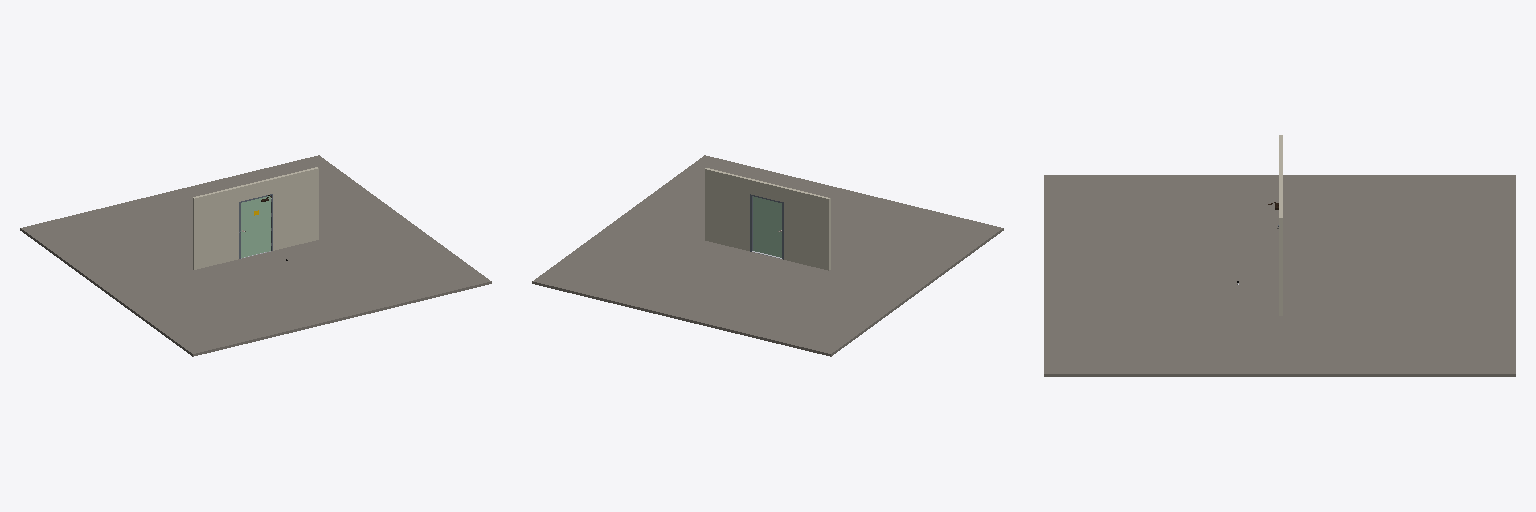
robot.urdf — db0206_swing_single_full:
<?xml version="1.0" ?>
<robot xmlns:doorbench="https://github.com/adamraudonis/DoorBench/schema/urdf-ext" name="db0206_swing_single_full">
  <link name="world_env">
    <visual name="floor_vis">
      <origin xyz="0 0 -0.05" rpy="0 0 0"/>
      <geometry>
        <box size="12 12 0.1"/>
      </geometry>
      <material name="mat_floor"/>
    </visual>
    <collision name="floor_col">
      <origin xyz="0 0 -0.05" rpy="0 0 0"/>
      <geometry>
        <box size="12 12 0.1"/>
      </geometry>
    </collision>
    <visual name="wall_left_vis">
      <origin xyz="-1.5965 0.0285 1.3735" rpy="0 0 0"/>
      <geometry>
        <box size="1.807 0.115 2.747"/>
      </geometry>
      <material name="mat_wall"/>
    </visual>
    <collision name="wall_left_col">
      <origin xyz="-1.5965 0.0285 1.3735" rpy="0 0 0"/>
      <geometry>
        <box size="1.807 0.115 2.747"/>
      </geometry>
    </collision>
    <visual name="wall_right_vis">
      <origin xyz="1.5815 0.0285 1.3735" rpy="0 0 0"/>
      <geometry>
        <box size="1.837 0.115 2.747"/>
      </geometry>
      <material name="mat_wall"/>
    </visual>
    <collision name="wall_right_col">
      <origin xyz="1.5815 0.0285 1.3735" rpy="0 0 0"/>
      <geometry>
        <box size="1.837 0.115 2.747"/>
      </geometry>
    </collision>
    <visual name="wall_header_vis">
      <origin xyz="-0.015 0.0285 2.487" rpy="0 0 0"/>
      <geometry>
        <box size="1.356 0.115 0.52"/>
      </geometry>
      <material name="mat_wall"/>
    </visual>
    <collision name="wall_header_col">
      <origin xyz="-0.015 0.0285 2.487" rpy="0 0 0"/>
      <geometry>
        <box size="1.356 0.115 0.52"/>
      </geometry>
    </collision>
    <visual name="hinge_0_jamb_vis">
      <origin xyz="0.61 -0.029 0.267" rpy="3.141593 0 3.141593"/>
      <geometry>
        <mesh filename="../../hardware/hinge_jamb_1278ce3e25.obj"/>
      </geometry>
      <material name="mat_hinge"/>
    </visual>
    <visual name="hinge_1_jamb_vis">
      <origin xyz="0.61 -0.029 0.832333" rpy="3.141593 0 3.141593"/>
      <geometry>
        <mesh filename="../../hardware/hinge_jamb_1278ce3e25.obj"/>
      </geometry>
      <material name="mat_hinge"/>
    </visual>
    <visual name="hinge_2_jamb_vis">
      <origin xyz="0.61 -0.029 1.397667" rpy="3.141593 0 3.141593"/>
      <geometry>
        <mesh filename="../../hardware/hinge_jamb_1278ce3e25.obj"/>
      </geometry>
      <material name="mat_hinge"/>
    </visual>
    <visual name="hinge_3_jamb_vis">
      <origin xyz="0.61 -0.029 1.963" rpy="3.141593 0 3.141593"/>
      <geometry>
        <mesh filename="../../hardware/hinge_jamb_1278ce3e25.obj"/>
      </geometry>
      <material name="mat_hinge"/>
    </visual>
    <visual name="jamb_hinge_vis">
      <origin xyz="0.638 0.0285 1.0735" rpy="0 0 0"/>
      <geometry>
        <box size="0.05 0.115 2.147"/>
      </geometry>
      <material name="mat_frame"/>
    </visual>
    <collision name="jamb_hinge_col">
      <origin xyz="0.638 0.0285 1.0735" rpy="0 0 0"/>
      <geometry>
        <box size="0.05 0.115 2.147"/>
      </geometry>
    </collision>
    <visual name="strike_1040_wall_n_vis">
      <origin xyz="-0.653 0.04775 1.04" rpy="0 0 0"/>
      <geometry>
        <box size="0.08 0.0765 0.0366"/>
      </geometry>
      <material name="mat_frame"/>
    </visual>
    <collision name="strike_1040_wall_n_col">
      <origin xyz="-0.653 0.04775 1.04" rpy="0 0 0"/>
      <geometry>
        <box size="0.08 0.0765 0.0366"/>
      </geometry>
    </collision>
    <visual name="strike_1040_wall_p_vis">
      <origin xyz="-0.653 -0.0175 1.04" rpy="0 0 0"/>
      <geometry>
        <box size="0.08 0.016 0.0366"/>
      </geometry>
      <material name="mat_frame"/>
    </visual>
    <collision name="strike_1040_wall_p_col">
      <origin xyz="-0.653 -0.0175 1.04" rpy="0 0 0"/>
      <geometry>
        <box size="0.08 0.016 0.0366"/>
      </geometry>
    </collision>
    <visual name="strike_1040_ramp_vis">
      <origin xyz="-0.656282 -0.018312 1.04" rpy="0 0 -0.588003"/>
      <geometry>
        <box size="0.08 0.036056 0.0366"/>
      </geometry>
      <material name="mat_frame"/>
    </visual>
    <collision name="strike_1040_ramp_col">
      <origin xyz="-0.656282 -0.018312 1.04" rpy="0 0 -0.588003"/>
      <geometry>
        <box size="0.08 0.036056 0.0366"/>
      </geometry>
    </collision>
    <visual name="strike_1040_back_vis">
      <origin xyz="-0.6645 0 1.04" rpy="0 0 0"/>
      <geometry>
        <box size="0.057 0.019 0.0366"/>
      </geometry>
      <material name="mat_frame"/>
    </visual>
    <collision name="strike_1040_back_col">
      <origin xyz="-0.6645 0 1.04" rpy="0 0 0"/>
      <geometry>
        <box size="0.057 0.019 0.0366"/>
      </geometry>
    </collision>
    <visual name="jamb_strike_0_vis">
      <origin xyz="-0.653 0.0285 0.51085" rpy="0 0 0"/>
      <geometry>
        <box size="0.08 0.115 1.0217"/>
      </geometry>
      <material name="mat_frame"/>
    </visual>
    <collision name="jamb_strike_0_col">
      <origin xyz="-0.653 0.0285 0.51085" rpy="0 0 0"/>
      <geometry>
        <box size="0.08 0.115 1.0217"/>
      </geometry>
    </collision>
    <visual name="jamb_strike_1_vis">
      <origin xyz="-0.653 0.0285 1.60265" rpy="0 0 0"/>
      <geometry>
        <box size="0.08 0.115 1.0887"/>
      </geometry>
      <material name="mat_frame"/>
    </visual>
    <collision name="jamb_strike_1_col">
      <origin xyz="-0.653 0.0285 1.60265" rpy="0 0 0"/>
      <geometry>
        <box size="0.08 0.115 1.0887"/>
      </geometry>
    </collision>
    <visual name="jamb_head_vis">
      <origin xyz="-0.015 0.0285 2.172" rpy="0 0 0"/>
      <geometry>
        <box size="1.356 0.115 0.05"/>
      </geometry>
      <material name="mat_frame"/>
    </visual>
    <collision name="jamb_head_col">
      <origin xyz="-0.015 0.0285 2.172" rpy="0 0 0"/>
      <geometry>
        <box size="1.356 0.115 0.05"/>
      </geometry>
    </collision>
    <visual name="head_stud_vis">
      <origin xyz="-0.015 0.0285 2.212" rpy="0 0 0"/>
      <geometry>
        <box size="1.356 0.115 0.03"/>
      </geometry>
      <material name="mat_wall"/>
    </visual>
    <collision name="head_stud_col">
      <origin xyz="-0.015 0.0285 2.212" rpy="0 0 0"/>
      <geometry>
        <box size="1.356 0.115 0.03"/>
      </geometry>
    </collision>
    <visual name="stop_hinge_vis">
      <origin xyz="0.6075 0.0385 1.0735" rpy="0 0 0"/>
      <geometry>
        <box size="0.011 0.032 2.147"/>
      </geometry>
      <material name="mat_frame"/>
    </visual>
    <collision name="stop_hinge_col">
      <origin xyz="0.6075 0.0385 1.0735" rpy="0 0 0"/>
      <geometry>
        <box size="0.011 0.032 2.147"/>
      </geometry>
    </collision>
    <visual name="stop_strike_vis">
      <origin xyz="-0.6075 0.0385 1.0735" rpy="0 0 0"/>
      <geometry>
        <box size="0.011 0.032 2.147"/>
      </geometry>
      <material name="mat_frame"/>
    </visual>
    <collision name="stop_strike_col">
      <origin xyz="-0.6075 0.0385 1.0735" rpy="0 0 0"/>
      <geometry>
        <box size="0.011 0.032 2.147"/>
      </geometry>
    </collision>
    <visual name="stop_head_vis">
      <origin xyz="0 0.0385 2.1415" rpy="0 0 0"/>
      <geometry>
        <box size="1.226 0.032 0.011"/>
      </geometry>
      <material name="mat_frame"/>
    </visual>
    <collision name="stop_head_col">
      <origin xyz="0 0.0385 2.1415" rpy="0 0 0"/>
      <geometry>
        <box size="1.226 0.032 0.011"/>
      </geometry>
    </collision>
    <visual name="threshold_vis">
      <origin xyz="0 0.0285 0.0065" rpy="0 0 0"/>
      <geometry>
        <box size="1.326 0.115 0.013"/>
      </geometry>
      <material name="mat_threshold"/>
    </visual>
    <collision name="threshold_col">
      <origin xyz="0 0.0285 0.0065" rpy="0 0 0"/>
      <geometry>
        <box size="1.326 0.115 0.013"/>
      </geometry>
    </collision>
    <visual name="closer_bracket_vis">
      <origin xyz="0.513 -0.041 2.177" rpy="0 0 0"/>
      <geometry>
        <box size="0.06 0.024 0.028"/>
      </geometry>
      <material name="mat_closer"/>
    </visual>
    <visual name="door_stop_base_vis">
      <origin xyz="0.626 -1.06515 0.003" rpy="0 0 0"/>
      <geometry>
        <cylinder radius="0.022" length="0.006"/>
      </geometry>
      <material name="mat_stop_base"/>
    </visual>
    <collision name="door_stop_base_col">
      <origin xyz="0.626 -1.06515 0.003" rpy="0 0 0"/>
      <geometry>
        <cylinder radius="0.022" length="0.006"/>
      </geometry>
    </collision>
    <visual name="door_stop_post_vis">
      <origin xyz="0.626 -1.06515 0.0315" rpy="0 0 0"/>
      <geometry>
        <cylinder radius="0.012" length="0.051"/>
      </geometry>
      <material name="mat_stop_base"/>
    </visual>
    <collision name="door_stop_post_col">
      <origin xyz="0.626 -1.06515 0.0315" rpy="0 0 0"/>
      <geometry>
        <cylinder radius="0.012" length="0.051"/>
      </geometry>
    </collision>
    <visual name="door_stop_bumper_vis">
      <origin xyz="0.626 -1.06515 0.077" rpy="0 0 0"/>
      <geometry>
        <cylinder radius="0.022" length="0.04"/>
      </geometry>
      <material name="mat_bumper_stop"/>
    </visual>
    <collision name="door_stop_bumper_col">
      <origin xyz="0.626 -1.06515 0.077" rpy="0 0 0"/>
      <geometry>
        <cylinder radius="0.022" length="0.04"/>
      </geometry>
    </collision>
  </link>
  <link name="leaf">
    <inertial>
      <origin xyz="-0.570399 0.021082 1.184265" rpy="0 0 0"/>
      <mass value="126.666749"/>
      <inertia ixx="54.020426138" ixy="0.280591572" ixz="-3.612746829" iyy="69.44539552" iyz="0.842528777" izz="15.610105286"/>
    </inertial>
    <visual name="leaf_slab_vis">
      <origin xyz="-0.6095 0.029 1.08" rpy="0 0 0"/>
      <geometry>
        <box size="1.219 0.044 2.126"/>
      </geometry>
      <material name="mat_leaf"/>
    </visual>
    <collision name="leaf_slab_col">
      <origin xyz="-0.6095 0.029 1.08" rpy="0 0 0"/>
      <geometry>
        <box size="1.219 0.044 2.126"/>
      </geometry>
    </collision>
    <visual name="hinge_0_vis">
      <origin xyz="0 0 0.267" rpy="3.141593 0 3.141593"/>
      <geometry>
        <mesh filename="../../hardware/hinge_ed08f20e7f.obj"/>
      </geometry>
      <material name="mat_hinge"/>
    </visual>
    <visual name="hinge_1_vis">
      <origin xyz="0 0 0.832333" rpy="3.141593 0 3.141593"/>
      <geometry>
        <mesh filename="../../hardware/hinge_ed08f20e7f.obj"/>
      </geometry>
      <material name="mat_hinge"/>
    </visual>
    <visual name="hinge_2_vis">
      <origin xyz="0 0 1.397667" rpy="3.141593 0 3.141593"/>
      <geometry>
        <mesh filename="../../hardware/hinge_ed08f20e7f.obj"/>
      </geometry>
      <material name="mat_hinge"/>
    </visual>
    <visual name="hinge_3_vis">
      <origin xyz="0 0 1.963" rpy="3.141593 0 3.141593"/>
      <geometry>
        <mesh filename="../../hardware/hinge_ed08f20e7f.obj"/>
      </geometry>
      <material name="mat_hinge"/>
    </visual>
    <visual name="leaf_latch_bolt_faceplate_vis">
      <origin xyz="-1.2184 0.029 1.04" rpy="0 0 0"/>
      <geometry>
        <box size="0.0012 0.028 0.0566"/>
      </geometry>
      <material name="mat_bolt"/>
    </visual>
    <visual name="closer_body_vis">
      <origin xyz="-0.297 0.007 2.046" rpy="-1.570796 0 3.141593"/>
      <geometry>
        <mesh filename="../../hardware/closer_body_fdc4667657.obj"/>
      </geometry>
      <material name="mat_closer"/>
    </visual>
    <collision name="closer_body_col_col">
      <origin xyz="-0.297 -0.043 2.046" rpy="0 0 0"/>
      <geometry>
        <box size="0.29 0.1 0.07"/>
      </geometry>
    </collision>
    <visual name="closer_pinion_shaft_vis">
      <origin xyz="-0.297 -0.043 2.1115" rpy="0 0 0"/>
      <geometry>
        <cylinder radius="0.008" length="0.131"/>
      </geometry>
      <material name="mat_closer"/>
    </visual>
    <visual name="warning_placard_vis">
      <origin xyz="-0.6095 0.006 1.6115" rpy="0 0 0"/>
      <geometry>
        <box size="0.22 0.002 0.16"/>
      </geometry>
      <material name="mat_placard"/>
    </visual>
  </link>
  <link name="leaf_handle">
    <inertial>
      <origin xyz="0.027758 -0.000956 0" rpy="0 0 0"/>
      <mass value="1.005882"/>
      <inertia ixx="0.003806532" ixy="-0.000026683" ixz="0" iyy="0.001794838" iyz="0" izz="0.005422316"/>
    </inertial>
    <visual name="leaf_handle_spindle_vis">
      <origin xyz="0 0 0" rpy="-1.570796 0 0"/>
      <geometry>
        <cylinder radius="0.006" length="0.06"/>
      </geometry>
      <material name="mat_op_nickel_satin"/>
    </visual>
    <visual name="leaf_handle_lever_n_vis">
      <origin xyz="0 -0.022 0" rpy="-1.570796 0 3.141593"/>
      <geometry>
        <mesh filename="../../hardware/lever_9f02b544cf.obj"/>
      </geometry>
      <material name="mat_op_nickel_satin"/>
    </visual>
    <collision name="leaf_handle_lever_col_n_col">
      <origin xyz="0.0625 -0.077 0" rpy="0 1.570796 0"/>
      <geometry>
        <cylinder radius="0.0095" length="0.106"/>
      </geometry>
    </collision>
    <collision name="leaf_handle_hub_col_n_col">
      <origin xyz="0 -0.052 0" rpy="-1.570796 0 0"/>
      <geometry>
        <cylinder radius="0.012" length="0.044"/>
      </geometry>
    </collision>
    <visual name="leaf_handle_cylinder_n_vis">
      <origin xyz="0 -0.0845 0" rpy="-1.570796 0 0"/>
      <geometry>
        <cylinder radius="0.0085" length="0.012"/>
      </geometry>
      <material name="mat_trim"/>
    </visual>
    <visual name="leaf_handle_keyway_n_vis">
      <origin xyz="0 -0.091 0" rpy="0 0 0"/>
      <geometry>
        <box size="0.0024 0.0016 0.012"/>
      </geometry>
      <material name="mat_keyway"/>
    </visual>
    <visual name="leaf_handle_lever_p_vis">
      <origin xyz="0 0.022 0" rpy="1.570796 0 3.141593"/>
      <geometry>
        <mesh filename="../../hardware/lever_9f02b544cf.obj"/>
      </geometry>
      <material name="mat_op_nickel_satin"/>
    </visual>
    <collision name="leaf_handle_lever_col_p_col">
      <origin xyz="0.0625 0.077 0" rpy="0 1.570796 0"/>
      <geometry>
        <cylinder radius="0.0095" length="0.106"/>
      </geometry>
    </collision>
    <collision name="leaf_handle_hub_col_p_col">
      <origin xyz="0 0.052 0" rpy="-1.570796 0 0"/>
      <geometry>
        <cylinder radius="0.012" length="0.044"/>
      </geometry>
    </collision>
    <visual name="leaf_handle_turn_button_p_vis">
      <origin xyz="0 0.0875 0" rpy="-1.570796 0 0"/>
      <geometry>
        <cylinder radius="0.006" length="0.01"/>
      </geometry>
      <material name="mat_trim"/>
    </visual>
  </link>
  <link name="leaf_latch_bolt">
    <inertial>
      <origin xyz="0.0055 0 0" rpy="0 0 0"/>
      <mass value="0.074627"/>
      <inertia ixx="0.000002271" ixy="0" ixz="0" iyy="0.000013255" iyz="0" izz="0.000013255"/>
    </inertial>
    <visual name="leaf_latch_bolt_capsule_vis">
      <origin xyz="0.0055 0 0" rpy="0 -1.570796 0"/>
      <geometry>
        <cylinder radius="0.008" length="0.033"/>
      </geometry>
      <material name="mat_bolt"/>
    </visual>
    <collision name="leaf_latch_bolt_capsule_col">
      <origin xyz="0.0055 0 0" rpy="0 -1.570796 0"/>
      <geometry>
        <cylinder radius="0.008" length="0.033"/>
      </geometry>
    </collision>
  </link>
  <link name="closer_arm_main">
    <inertial>
      <origin xyz="0.14 0 0" rpy="0 0 0"/>
      <mass value="0.12096"/>
      <inertia ixx="0.000003588" ixy="0" ixz="0" iyy="0.00079128" iyz="0" izz="0.000792852"/>
    </inertial>
    <visual name="closer_arm_main_geom_vis">
      <origin xyz="0.14 0 0" rpy="0 0 0"/>
      <geometry>
        <box size="0.28 0.016 0.01"/>
      </geometry>
      <material name="mat_closer"/>
    </visual>
  </link>
  <link name="closer_arm_fore">
    <inertial>
      <origin xyz="0.128088 0 0" rpy="0 0 0"/>
      <mass value="0.076531"/>
      <inertia ixx="0.000001771" ixy="0" ixz="0" iyy="0.000437665" iyz="0" izz="0.000438201"/>
    </inertial>
    <visual name="closer_arm_fore_geom_vis">
      <origin xyz="0.1125 0 0" rpy="0 0 0"/>
      <geometry>
        <box size="0.225 0.014 0.008"/>
      </geometry>
      <material name="mat_closer"/>
    </visual>
    <visual name="closer_fore_neck_vis">
      <origin xyz="0.2425 0 0" rpy="0 0 0"/>
      <geometry>
        <box size="0.035 0.006 0.006"/>
      </geometry>
      <material name="mat_closer"/>
    </visual>
    <visual name="closer_fore_pivot_vis">
      <origin xyz="0.26 0 0" rpy="0 0 0"/>
      <geometry>
        <cylinder radius="0.005" length="0.024"/>
      </geometry>
      <material name="mat_closer"/>
    </visual>
  </link>
  <joint name="leaf_hinge" type="revolute">
    <origin xyz="0.61 -0.029 0" rpy="0 0 0"/>
    <parent link="world_env"/>
    <child link="leaf"/>
    <axis xyz="0 0 1"/>
    <limit lower="0" upper="1.570796" effort="2000" velocity="10"/>
    <dynamics damping="12.850995" friction="0.846963"/>
    <doorbench:spring stiffness="54.310033" springref="-1.794144" note="tau = -stiffness*(q - springref); not native URDF"/>
    <doorbench:closer damping_closing="90" damping_opening="12" backcheck_angle="1.22" backcheck_damping="60"/>
  </joint>
  <joint name="leaf_handle_hinge" type="revolute">
    <origin xyz="-1.149 0.029 1.04" rpy="0 0 0"/>
    <parent link="leaf"/>
    <child link="leaf_handle"/>
    <axis xyz="0 1 0"/>
    <limit lower="0" upper="0.96" effort="2000" velocity="10"/>
    <dynamics damping="0.245633" friction="0.048"/>
    <doorbench:spring stiffness="1.2" springref="-0.458333" note="tau = -stiffness*(q - springref); not native URDF"/>
  </joint>
  <joint name="leaf_latch_bolt_slide" type="prismatic">
    <origin xyz="-1.219 0.029 1.04" rpy="0 0 0"/>
    <parent link="leaf"/>
    <child link="leaf_latch_bolt"/>
    <axis xyz="1 0 0"/>
    <limit lower="0" upper="0.019" effort="5000" velocity="10"/>
    <dynamics damping="2" friction="0.3"/>
    <doorbench:spring stiffness="600" springref="-0.01" note="tau = -stiffness*(q - springref); not native URDF"/>
    <mimic joint="leaf_handle_hinge" multiplier="0.020879" offset="0"/>
    <doorbench:coupling one_sided="true" note="MJCF uses a one-sided tendon (bolt may retract further, e.g. riding over the strike lip); mimic is bilateral"/>
  </joint>
  <joint name="closer_pinion" type="continuous">
    <origin xyz="-0.297 -0.043 2.177" rpy="0 0 -0.94274"/>
    <parent link="leaf"/>
    <child link="closer_arm_main"/>
    <axis xyz="0 0 1"/>
    <dynamics damping="0.01" friction="0"/>
  </joint>
  <joint name="closer_elbow" type="continuous">
    <origin xyz="0.28 0 0" rpy="0 0 2.376649"/>
    <parent link="closer_arm_main"/>
    <child link="closer_arm_fore"/>
    <axis xyz="0 0 1"/>
    <dynamics damping="0.01" friction="0"/>
  </joint>
  <material name="mat_bolt">
    <color rgba="0.85 0.66 0.3 1"/>
  </material>
  <material name="mat_bumper_stop">
    <color rgba="0.08 0.08 0.08 1"/>
  </material>
  <material name="mat_closer">
    <color rgba="0.22 0.17 0.13 1"/>
  </material>
  <material name="mat_floor">
    <color rgba="0.55 0.53 0.5 1"/>
  </material>
  <material name="mat_frame">
    <color rgba="0.45 0.48 0.52 1"/>
  </material>
  <material name="mat_hinge">
    <color rgba="0.65 0.66 0.68 1"/>
  </material>
  <material name="mat_keyway">
    <color rgba="0.05 0.05 0.05 1"/>
  </material>
  <material name="mat_leaf">
    <color rgba="0.65 0.78 0.68 1"/>
  </material>
  <material name="mat_op_nickel_satin">
    <color rgba="0.72 0.7 0.66 1"/>
  </material>
  <material name="mat_placard">
    <color rgba="0.95 0.75 0.05 1"/>
  </material>
  <material name="mat_stop_base">
    <color rgba="0.9 0.9 0.92 1"/>
  </material>
  <material name="mat_threshold">
    <color rgba="0.8 0.81 0.83 1"/>
  </material>
  <material name="mat_trim">
    <color rgba="0.85 0.66 0.3 1"/>
  </material>
  <material name="mat_wall">
    <color rgba="0.78 0.76 0.7 1"/>
  </material>
  <doorbench:loop_closure body1="closer_arm_fore" body2="world" anchor="0.26 0 0" label="Closer forearm pinned to frame shoe"/>
</robot>

--- What the picture shows (computed from the rendered views, not written in the file) ---
3 views of the same robot in one strip: view 1: azimuth 30°, elevation 25°; view 2: azimuth 150°, elevation 25°; view 3: azimuth 270°, elevation 25° (orthographic).
Model db0206_swing_single_full with 6 links and 5 joints (2 revolute, 2 continuous, 1 prismatic), rooted at world_env, posed every joint at zero.
Visible links, largest first — view 1: world_env, leaf; view 2: world_env, leaf; view 3: world_env.
Boxes of the visible links, x1,y1,x2,y2 form: world_env: (20,155,491,356); leaf: (241,196,271,257); world_env: (532,155,1003,356); leaf: (753,196,781,257); world_env: (1044,135,1515,376).
Bounding box of the posed robot: 12 × 12 × 2.85 m (x, y, z).
Meshes: 4 distinct files referenced, 11 mesh visuals loaded (4 OBJ).
